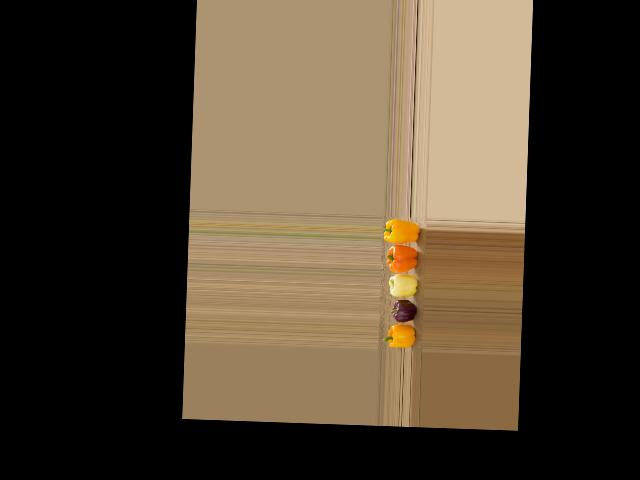bell_pepper: (382, 326, 421, 350)
